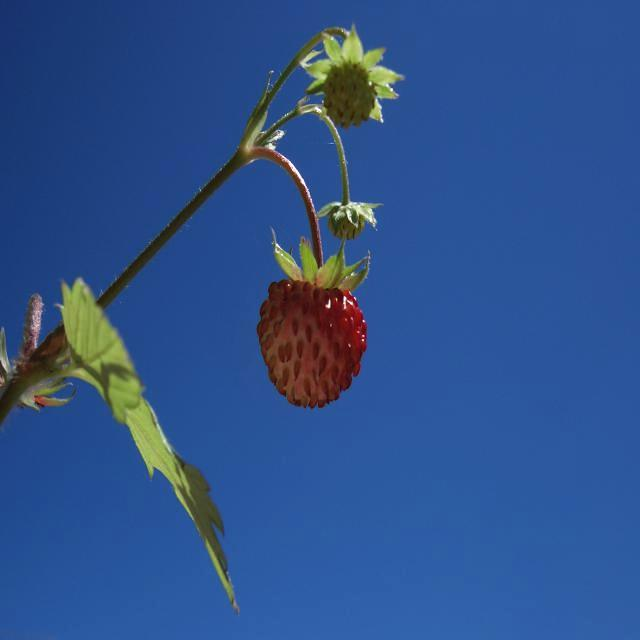ripe: (244, 264, 386, 413)
unripe: (309, 35, 395, 148), (312, 186, 386, 255)
